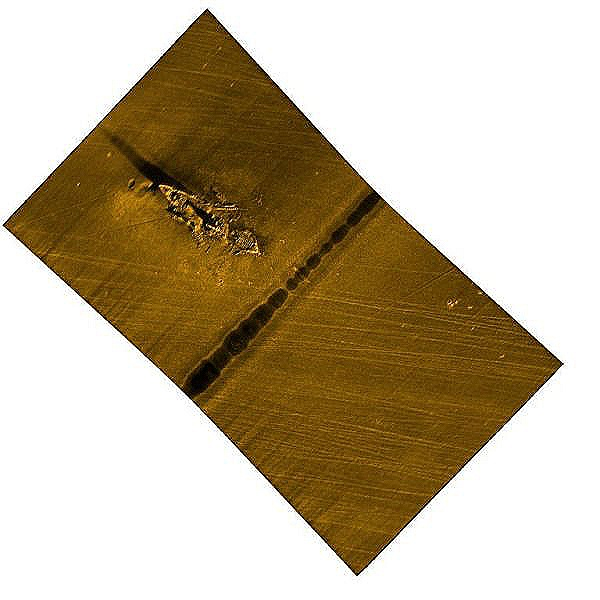ship: (156, 183, 260, 255)
